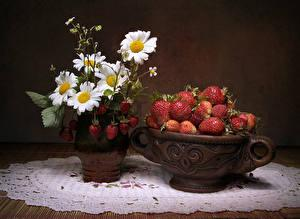chamomile: (98, 68, 126, 90), (51, 74, 73, 102), (125, 35, 150, 59), (71, 89, 97, 107), (74, 53, 97, 71)
